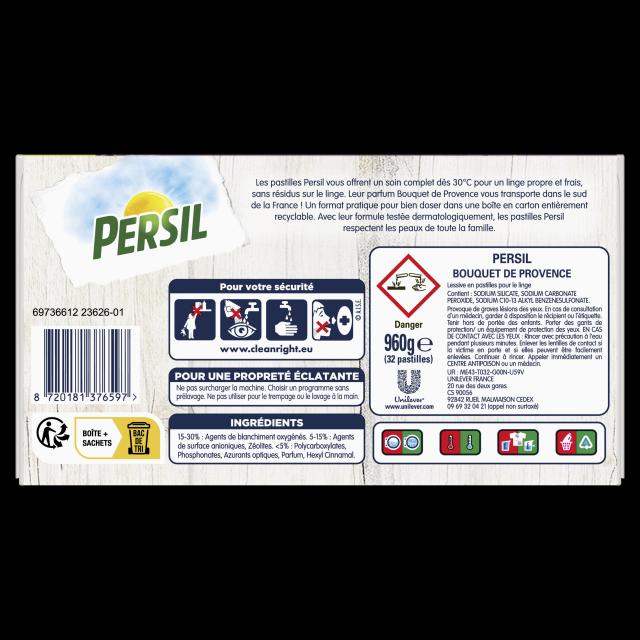GHS_Symbol_CORROSION: (376, 252, 441, 318)
